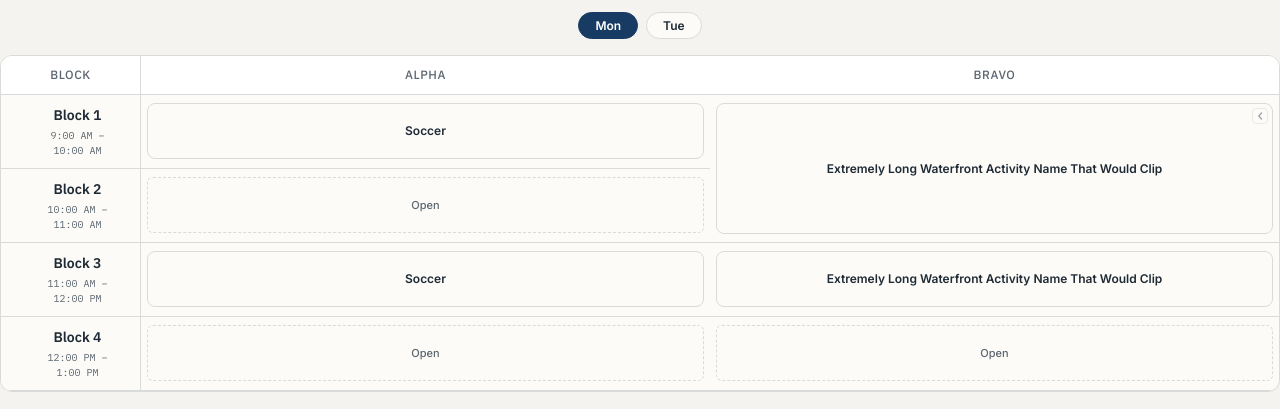
it: ScheduleDayView — CSS Grid conversion (T56) › T112 — a single plain click on an OCCUPIED cell does NOT open the inline editor; a double-click does (day view has no selection wiring)
Click the 1st cell "Soccer" at (426, 132), box [141,95,710,169]
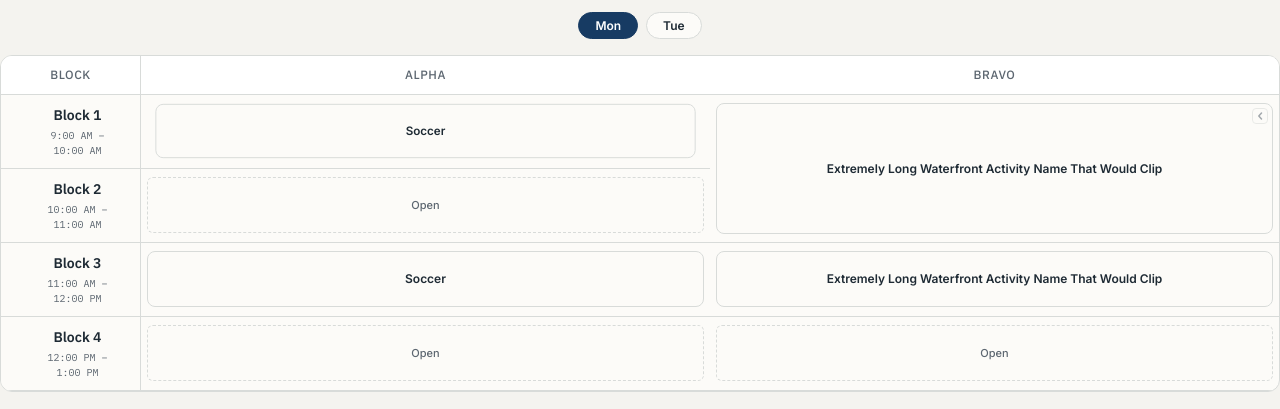
Double-click the 1st cell "Soccer" at (426, 132), box [141,95,710,169]
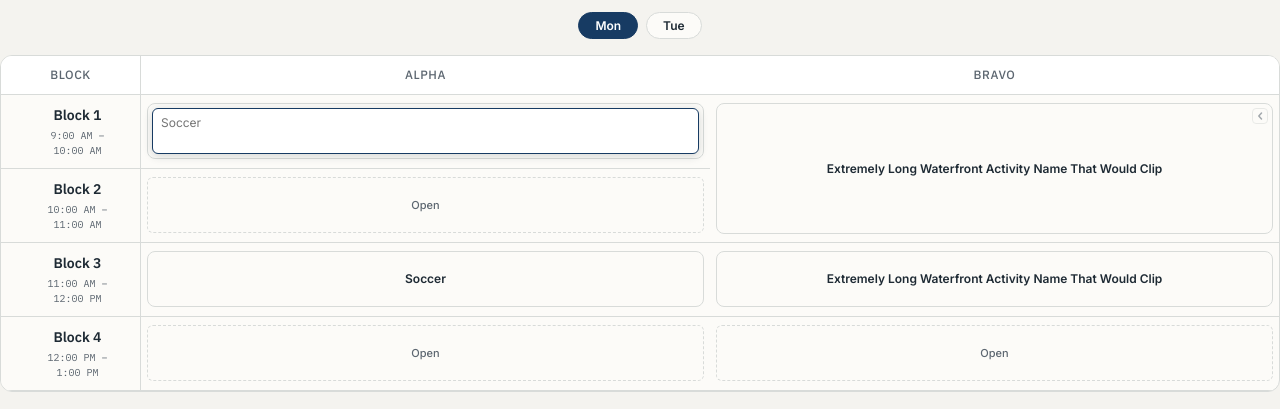
Now the field with class "cell-inline-editor-input" is shown, box [153,109,698,136]
